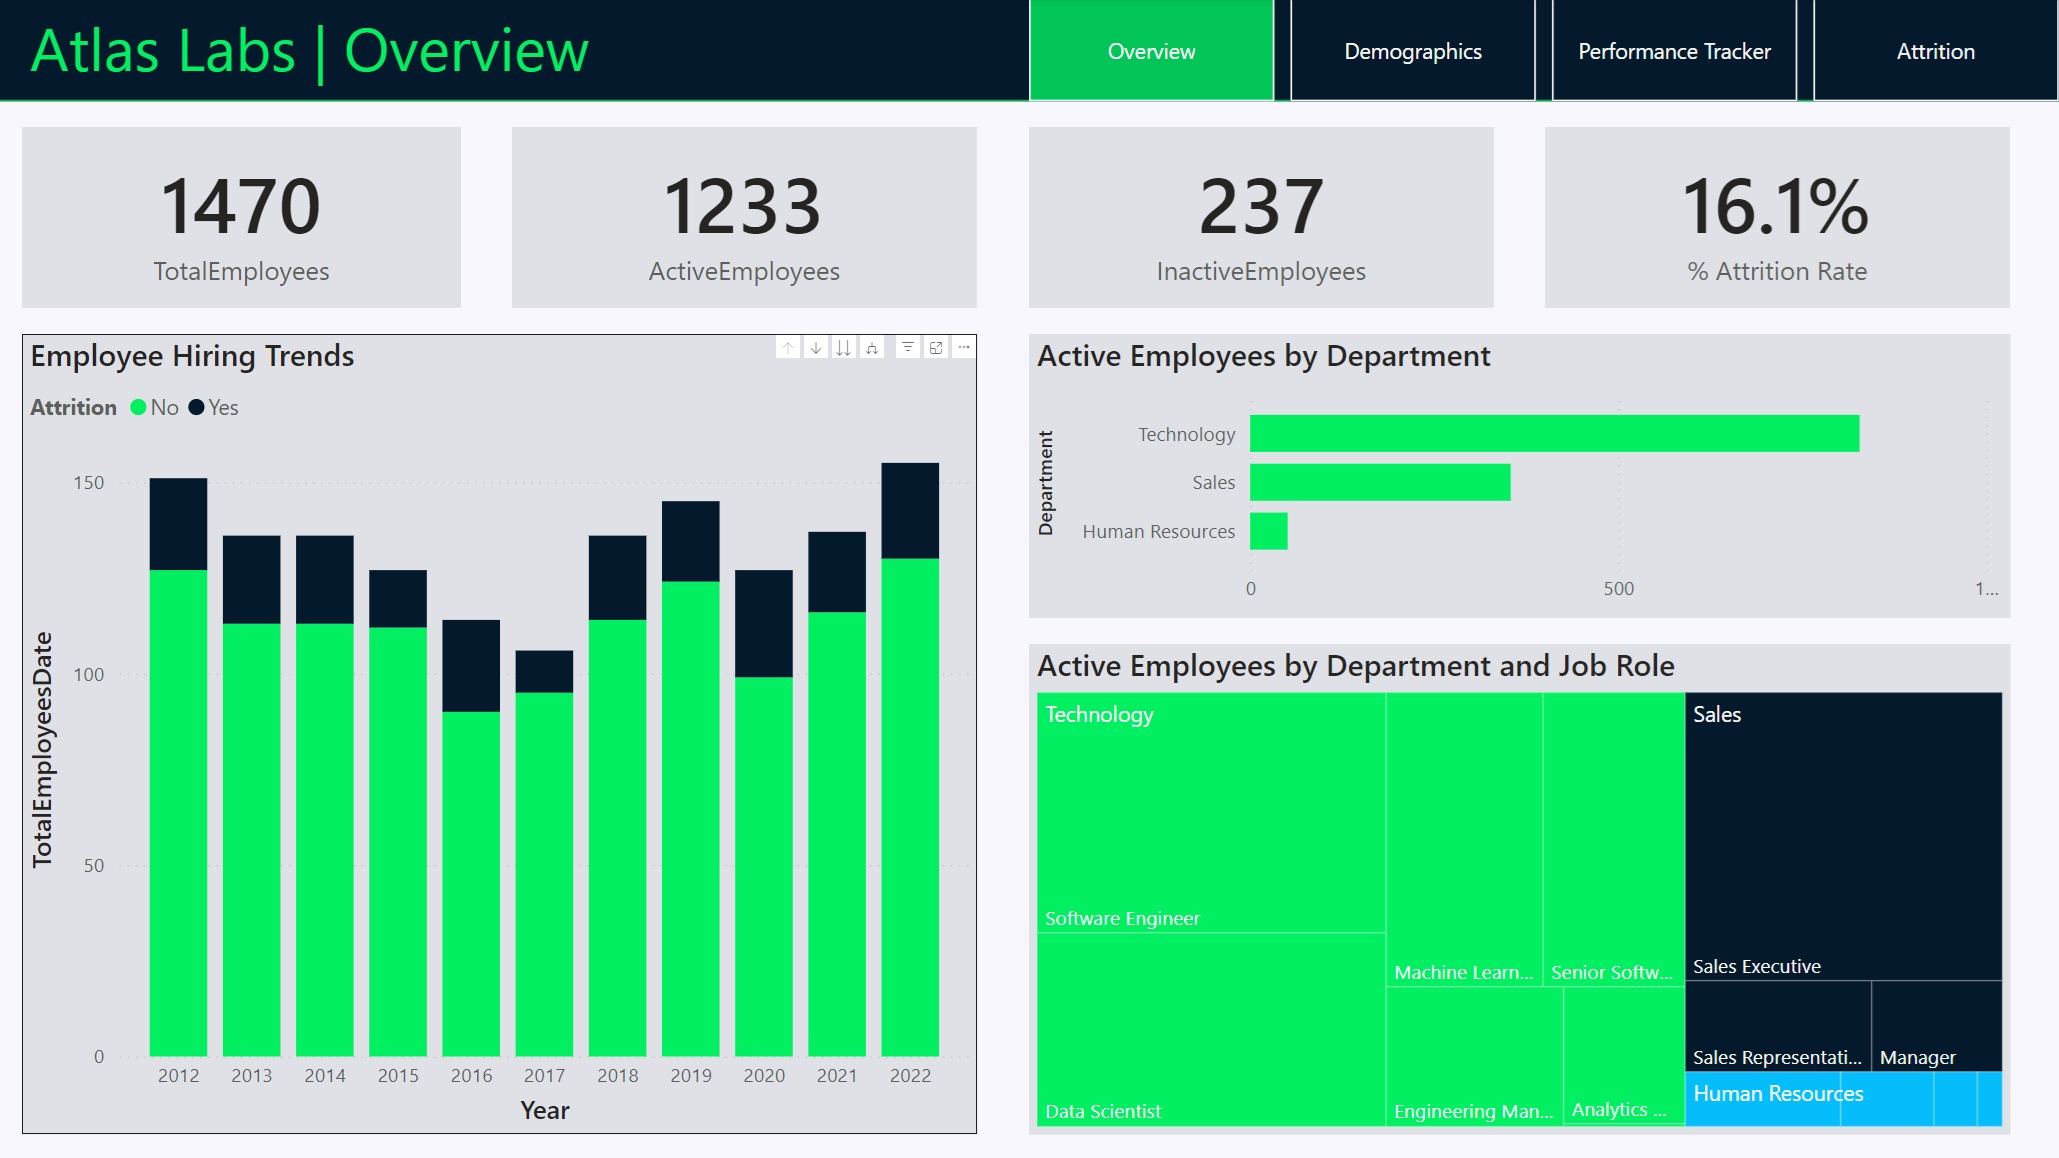

Layout of this report page (visuals, bound fields, positions):
{"tool":"powerbi","page":{"name":"Overview","canvas":[1280,720],"ordinal":0},"visuals":[{"type":"card","fields":{"Values":["_Measures.TotalEmployees"]},"box":[16,80,272,112],"z":0},{"type":"card","fields":{"Values":["_Measures.ActiveEmployees"]},"box":[320,80,288,112],"z":1000},{"type":"card","fields":{"Values":["_Measures.InactiveEmployees"]},"box":[640,80,288,112],"z":2000},{"type":"card","fields":{"Values":["_Measures.% Attrition Rate"]},"box":[960,80,288,112],"z":3000},{"type":"columnChart","title":"Employee Hiring Trends","fields":{"Category":["DimDate.Date.Variation.Date Hierarchy.Year","DimDate.Date.Variation.Date Hierarchy.Quarter","DimDate.Date.Variation.Date Hierarchy.Month","DimDate.Date.Variation.Date Hierarchy.Day"],"Y":["_Measures.TotalEmployeesDate"],"Series":["DimEmployee.Attrition"]},"box":[16,208,592,496],"z":4000},{"type":"clusteredBarChart","title":"Active Employees by Department","fields":{"Category":["DimEmployee.Department"],"Y":["_Measures.ActiveEmployees"]},"box":[640,208,608,176],"z":5000},{"type":"treemap","title":"Active Employees by Department and Job Role","fields":{"Values":["_Measures.ActiveEmployees"],"Group":["DimEmployee.Department"],"Details":["DimEmployee.JobRole"]},"box":[640,400,608,304],"z":6000},{"type":"shape","box":[0,0,1280,64],"z":7000},{"type":"textbox","box":[16,0,448,64],"z":8000},{"type":"pageNavigator","box":[640,0,640,64],"z":9000}]}

Visuals, with their boxes in screenshot pixels (x1, y1, x2, y2), scaled from the page's 1280x720 canvas onto the 2059x1158 screenshot:
card - _Measures.TotalEmployees: [26,129,463,309]
card - _Measures.ActiveEmployees: [515,129,978,309]
card - _Measures.InactiveEmployees: [1030,129,1493,309]
card - _Measures.% Attrition Rate: [1544,129,2008,309]
"Employee Hiring Trends" columnChart: [26,335,978,1132]
"Active Employees by Department" clusteredBarChart: [1030,335,2008,618]
"Active Employees by Department and Job Role" treemap: [1030,643,2008,1132]
shape: [0,0,2058,103]
textbox: [26,0,746,103]
pageNavigator: [1030,0,2058,103]
